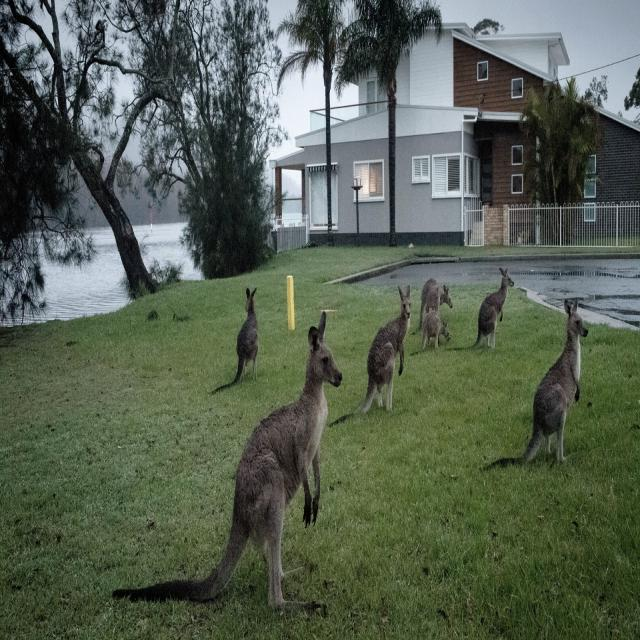kangaroo: (114, 311, 342, 608), (491, 299, 588, 466), (360, 285, 411, 413), (476, 267, 514, 348), (232, 288, 259, 384), (421, 278, 452, 328), (422, 309, 449, 348)
